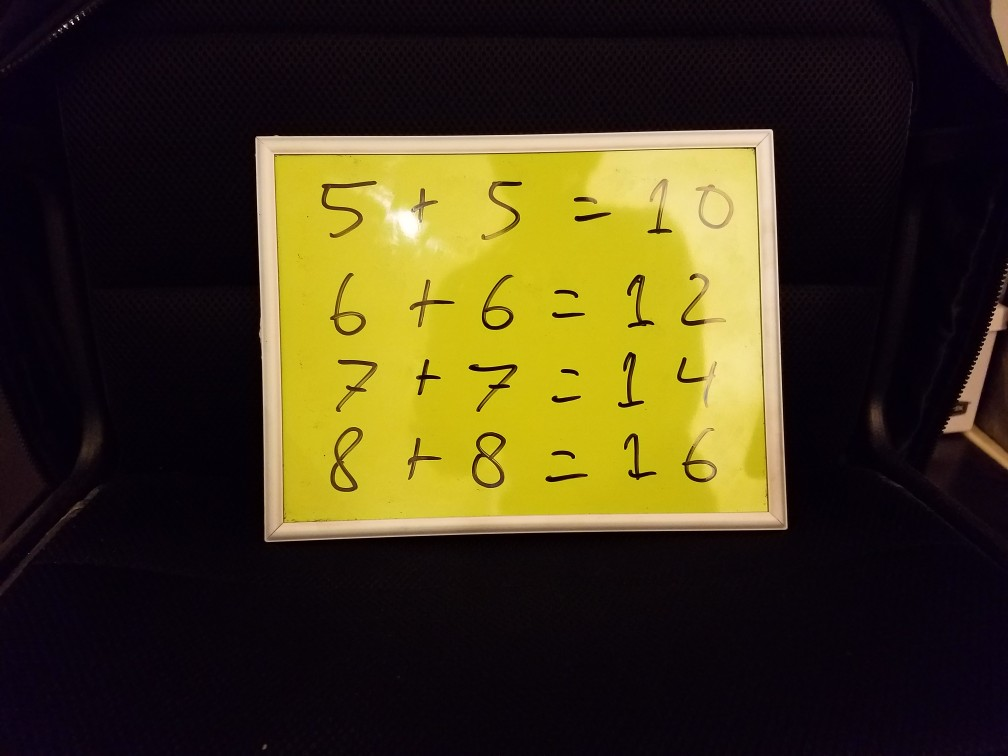+: (404, 273, 457, 330), (398, 430, 445, 485), (407, 356, 444, 401), (404, 185, 440, 227)
0: (691, 176, 741, 235)
1: (613, 346, 651, 415), (640, 171, 676, 239), (621, 266, 657, 332), (617, 430, 659, 482)
2: (677, 268, 730, 333)
4: (673, 347, 724, 410)
5: (313, 173, 382, 241), (475, 171, 529, 244)
6: (327, 270, 371, 339), (679, 422, 724, 487), (475, 270, 521, 333)
7: (463, 351, 522, 416), (326, 352, 382, 417)
8: (326, 423, 370, 497), (465, 426, 511, 493)
=: (542, 442, 593, 489), (544, 279, 592, 326), (544, 360, 589, 410), (566, 188, 612, 228)
